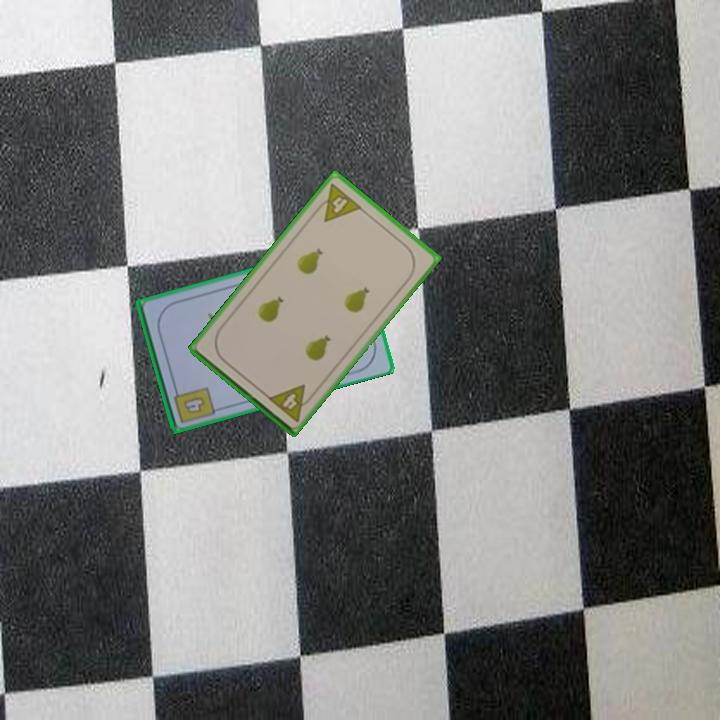4b: (170, 382, 218, 426)
4p: (310, 179, 365, 225), (264, 381, 317, 424)
